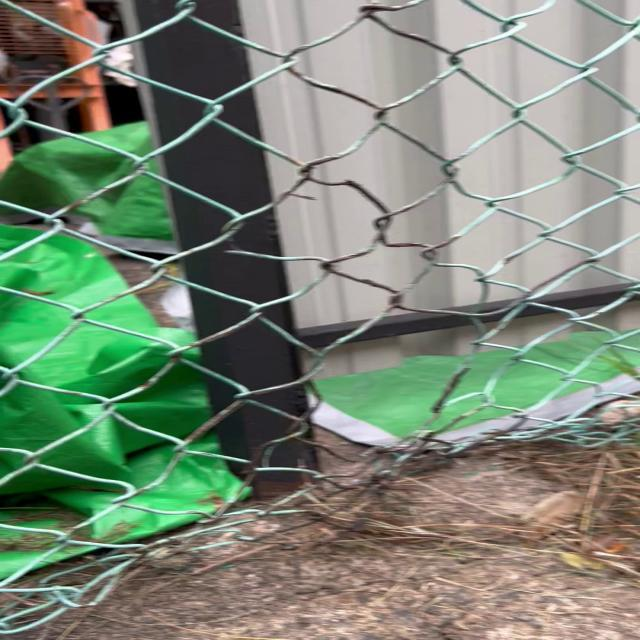fence line: (297, 302, 502, 466)
